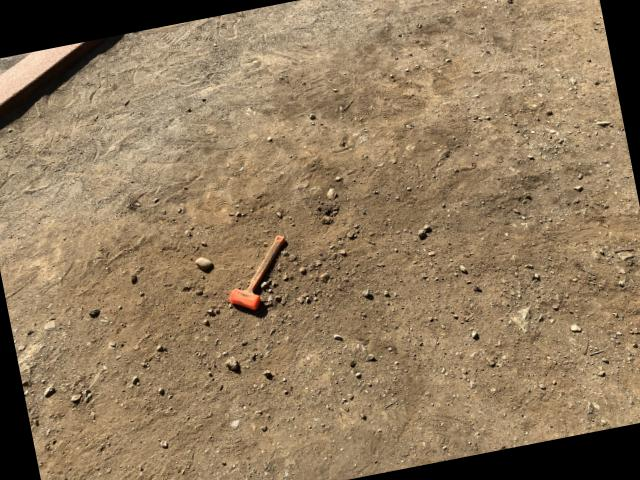hammer: (218, 231, 296, 314)
